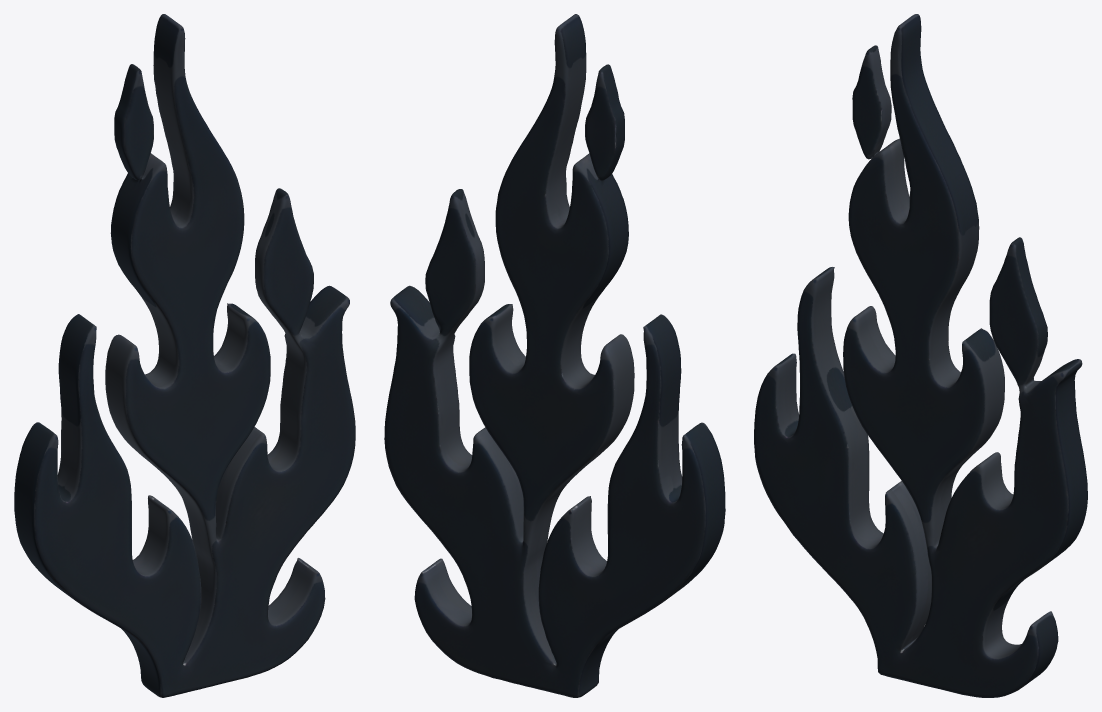
File: brand.glb
3 views of the same model, side by side, from view 1: azimuth 30°, elevation 25°; view 2: azimuth 150°, elevation 25°; view 3: azimuth 330°, elevation 25° (orthographic). The views are drawn at different scales.
Parts seen in each view (by area): view 1: model; view 2: model; view 3: model.
Part boxes in pixels (x1,y1,x2,y2): model: (14,14,355,697); model: (384,14,725,697); model: (754,14,1087,697).
Bounding box in the file's own units: 0.9668 × 1.91 × 0.1122.
Materials: 1 (1 with a texture image).
